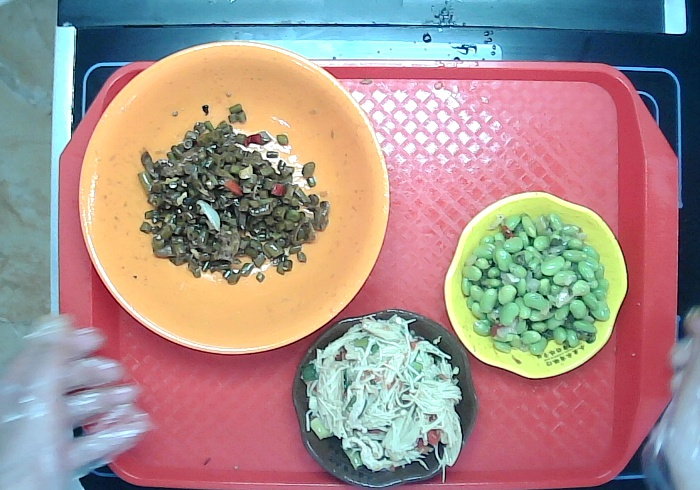YKMZ-Huang_Se_Ao_Bian_Wan: (442, 189, 631, 381)
YKMZ-Ju_Se_Tang_Wan: (73, 35, 393, 359)
YKMZ-Ka_Fei_Ao_Bian_Wan: (291, 307, 479, 490)
